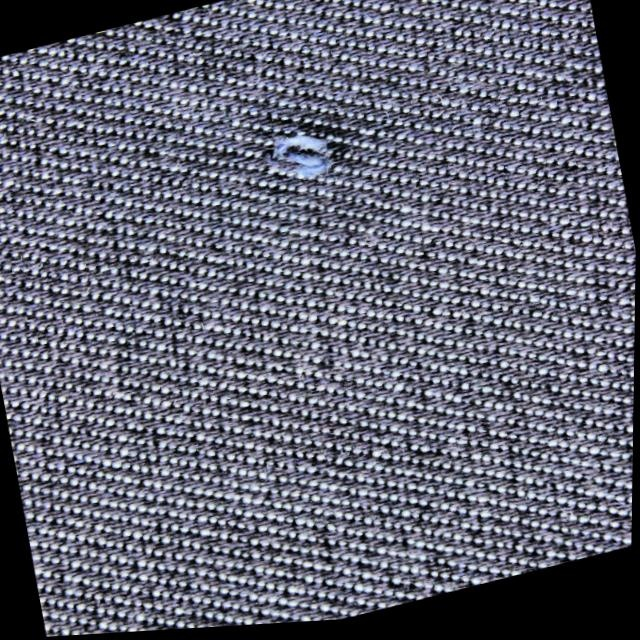Hole: (219, 101, 385, 213)
